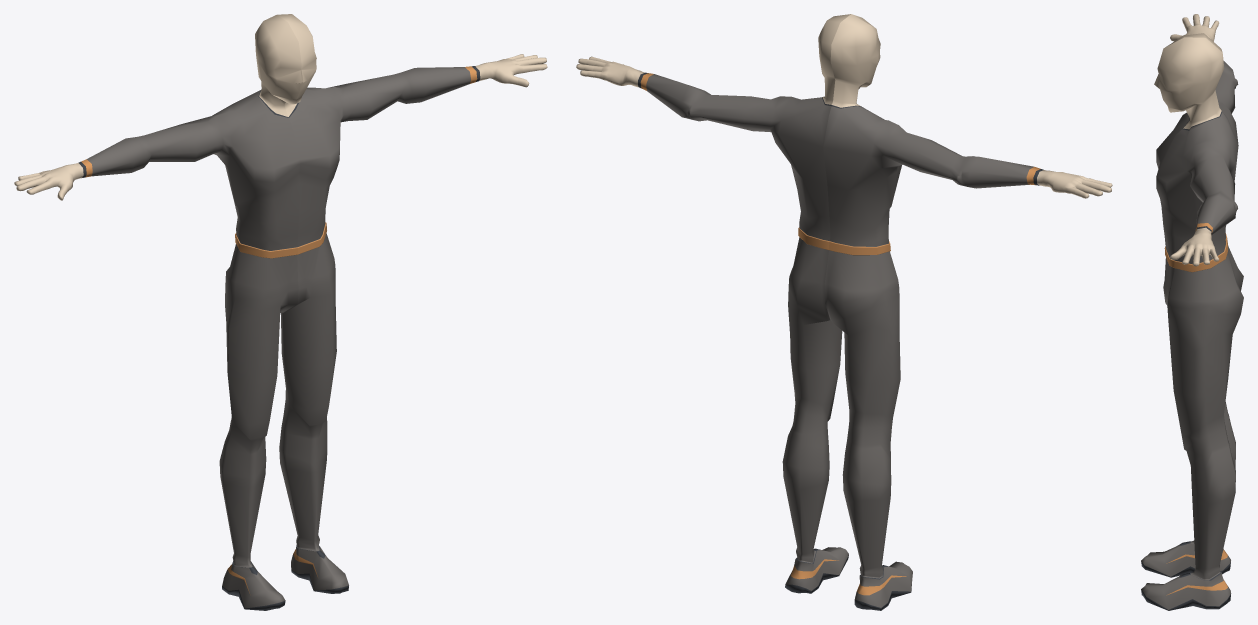
Rendered from MocapiMan.fbx.
3 renders of one model, left to right at view 1: azimuth 30°, elevation 25°; view 2: azimuth 150°, elevation 25°; view 3: azimuth 270°, elevation 25°, orthographic. The views are drawn at different scales.
Visible parts, largest first — view 1: MocapiMan; view 2: MocapiMan; view 3: MocapiMan.
Boxes of the visible parts, x1,y1,x2,y2 form: MocapiMan: (14, 14, 547, 610); MocapiMan: (576, 14, 1112, 610); MocapiMan: (1141, 14, 1243, 610).
Size of the model in its own units: 169 by 173 by 29.44.
